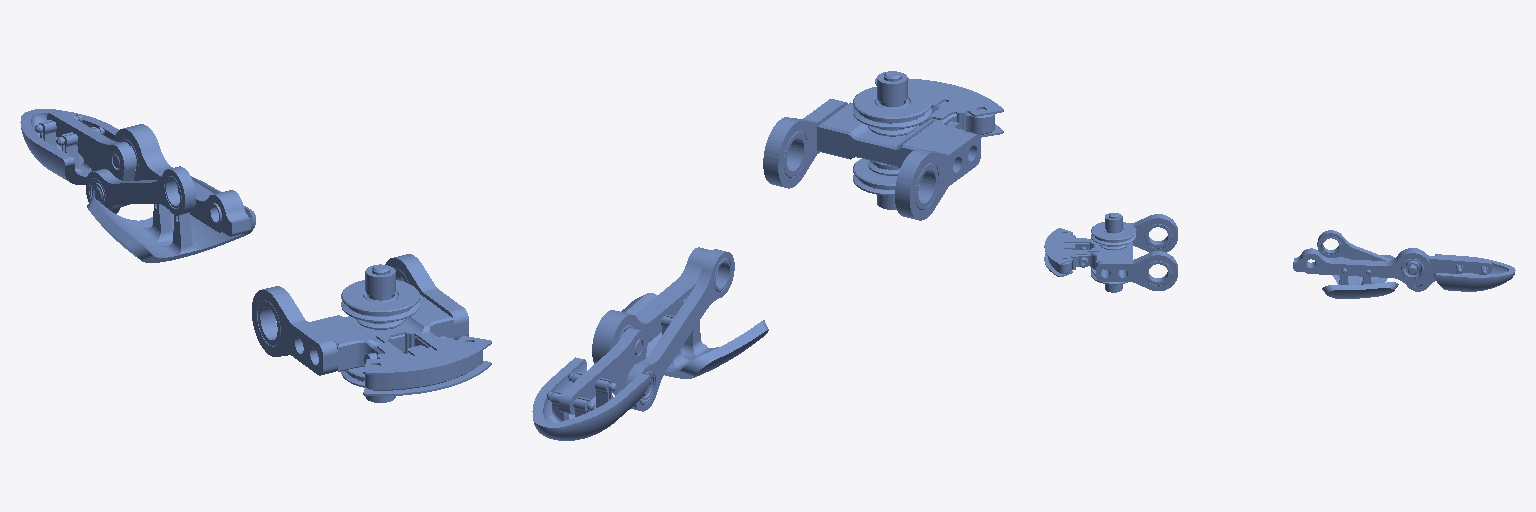
robot.urdf — finger:
<?xml version="1.0"?>
<robot name="finger">

  <!-- Generated by blender_export.py from /home/michael-jenz/rds_ws/src/robotic-finger/blender_files/rds_finger2.blend -->

  <material name="blue">
    <color rgba="0 0 1 1"/>
  </material>
  <material name="green">
    <color rgba="0 1 0 1"/>
  </material>
  <material name="red">
    <color rgba="1 0 0 1"/>
  </material>
  <material name="purple">
    <color rgba="1 0 1 1"/>
  </material>
  <material name="grey">
    <color rgba="0.5 0.5 0.5 1"/>
  </material>
  <material name="yellow">
    <color rgba="1 1 0 1"/>
  </material>

  <!-- Finger base -->
  <link name="base_link">
    <visual>
      <geometry>
        <mesh filename="package://finger_description/meshes/urdf/visual/base_link.obj"/>
      </geometry>
      <material name="setpoint_ghost">
        <color rgba="0.5 0.6 0.8 0.35"/>
      </material>
    </visual>
    <collision>
      <geometry>
        <mesh filename="package://finger_description/meshes/urdf/collision/col_base_link.obj"/>
      </geometry>
    </collision>
    <inertial>
      <mass value="0.05"/>
      <origin xyz="0 0 0" rpy="0 0 0"/>
      <inertia ixx="1e-05" ixy="0" ixz="0" iyy="1e-05" iyz="0" izz="1e-05"/>
    </inertial>
  </link>

  <!-- Mcp Splay -->
  <joint name="mcp_splay" type="revolute">
    <parent link="base_link"/>
    <child link="mcp_link"/>
    <origin xyz="0.0 0.0 -0.0" rpy="0 0 0"/>
    <axis xyz="0.0 0.0 1.0"/>
    <limit lower="-0.174533" upper="0.174533" effort="5.0" velocity="3.14"/>
    <dynamics damping="0.1" friction="0.0"/>
  </joint>

  <!-- Space between MCP splay and flexion -->
  <link name="mcp_link">
    <visual>
      <geometry>
        <mesh filename="package://finger_description/meshes/urdf/visual/mcp_link.obj"/>
      </geometry>
      <material name="setpoint_ghost">
        <color rgba="0.5 0.6 0.8 0.35"/>
      </material>
    </visual>
    <collision>
      <geometry>
        <mesh filename="package://finger_description/meshes/urdf/collision/col_mcp_link.obj"/>
      </geometry>
    </collision>
    <inertial>
      <mass value="0.01"/>
      <origin xyz="0 0 0" rpy="0 0 0"/>
      <inertia ixx="1e-05" ixy="0" ixz="0" iyy="1e-05" iyz="0" izz="1e-05"/>
    </inertial>
  </link>

  <!-- Mcp Flexion -->
  <joint name="mcp_flexion" type="revolute">
    <parent link="mcp_link"/>
    <child link="proximal_phalanx"/>
    <origin xyz="-0.0 0.0178 0.0" rpy="0 0 0"/>
    <axis xyz="-1.0 0.0 0.0"/>
    <limit lower="0" upper="1.57" effort="5.0" velocity="3.14"/>
    <dynamics damping="0.1" friction="0.0"/>
  </joint>

  <!-- Proximal phalanx -->
  <link name="proximal_phalanx">
    <visual>
      <geometry>
        <mesh filename="package://finger_description/meshes/urdf/visual/proximal_phalanx.obj"/>
      </geometry>
      <material name="setpoint_ghost">
        <color rgba="0.5 0.6 0.8 0.35"/>
      </material>
    </visual>
    <collision>
      <geometry>
        <mesh filename="package://finger_description/meshes/urdf/collision/col_proximal_phalanx.obj"/>
      </geometry>
    </collision>
    <inertial>
      <mass value="0.01"/>
      <origin xyz="0 0 0" rpy="0 0 0"/>
      <inertia ixx="1e-05" ixy="0" ixz="0" iyy="1e-05" iyz="0" izz="1e-05"/>
    </inertial>
  </link>

  <!-- Pip Flexion -->
  <joint name="pip_flexion" type="revolute">
    <parent link="proximal_phalanx"/>
    <child link="middle_phalanx"/>
    <origin xyz="-0.0001 0.0612 -0.0017" rpy="0 0 0"/>
    <axis xyz="-1.0 0.0 0.0"/>
    <limit lower="0.0" upper="1.57" effort="5.0" velocity="3.14"/>
    <dynamics damping="0.1" friction="0.0"/>
  </joint>

  <!-- Middle phalanx -->
  <link name="middle_phalanx">
    <visual>
      <geometry>
        <mesh filename="package://finger_description/meshes/urdf/visual/middle_phalanx.obj"/>
      </geometry>
      <material name="setpoint_ghost">
        <color rgba="0.5 0.6 0.8 0.35"/>
      </material>
    </visual>
    <collision>
      <geometry>
        <mesh filename="package://finger_description/meshes/urdf/collision/col_middle_phalanx.obj"/>
      </geometry>
    </collision>
    <inertial>
      <mass value="0.008"/>
      <origin xyz="0 0 0" rpy="0 0 0"/>
      <inertia ixx="5e-06" ixy="0" ixz="0" iyy="5e-06" iyz="0" izz="5e-06"/>
    </inertial>
  </link>

  <!-- Dip Flexion -->
  <joint name="dip_flexion" type="revolute">
    <parent link="middle_phalanx"/>
    <child link="distal_phalanx"/>
    <origin xyz="0.0036 0.0405 -0.0023" rpy="0 0 0"/>
    <axis xyz="-1.0 0.0 0.0"/>
    <limit lower="0.0" upper="1.57" effort="3.0" velocity="3.14"/>
    <dynamics damping="0.1" friction="0.0"/>
    <mimic joint="pip_flexion" multiplier="0.85" offset="0.0"/>
  </joint>

  <!-- Distal phalanx -->
  <link name="distal_phalanx">
    <visual>
      <geometry>
        <mesh filename="package://finger_description/meshes/urdf/visual/distal_phalanx.obj"/>
      </geometry>
      <material name="setpoint_ghost">
        <color rgba="0.5 0.6 0.8 0.35"/>
      </material>
    </visual>
    <collision>
      <geometry>
        <mesh filename="package://finger_description/meshes/urdf/collision/col_distal_phalanx.obj"/>
      </geometry>
    </collision>
    <inertial>
      <mass value="0.005"/>
      <origin xyz="0 0 0" rpy="0 0 0"/>
      <inertia ixx="2e-06" ixy="0" ixz="0" iyy="2e-06" iyz="0" izz="2e-06"/>
    </inertial>
  </link>

</robot>

--- What the picture shows (computed from the rendered views, not written in the file) ---
3 views of the same robot in one strip: view 1: azimuth 30°, elevation 25°; view 2: azimuth 150°, elevation 25°; view 3: azimuth 270°, elevation 25° (orthographic).
Robot: finger — 5 links, 4 joints (4 revolute); root link base_link; default pose: every joint at zero.
Visible links, largest first — view 1: mcp_link, middle_phalanx, distal_phalanx; view 2: mcp_link, middle_phalanx, distal_phalanx; view 3: mcp_link, middle_phalanx, distal_phalanx.
Boxes of the visible links, x1,y1,x2,y2 form: mcp_link: (252, 254, 491, 402); middle_phalanx: (86, 124, 255, 262); distal_phalanx: (20, 109, 136, 206); mcp_link: (763, 71, 1003, 220); middle_phalanx: (592, 247, 768, 411); distal_phalanx: (532, 328, 652, 440); mcp_link: (1044, 213, 1177, 292); middle_phalanx: (1293, 230, 1429, 298); distal_phalanx: (1404, 254, 1515, 291).
Bounding box of the posed robot: 0.039 × 0.1884 × 0.0355 m (x, y, z).
Meshes: 5 distinct files referenced, 3 mesh visuals loaded (3 OBJ); not drawn: 2 (reference not matched to a file when rendering).
